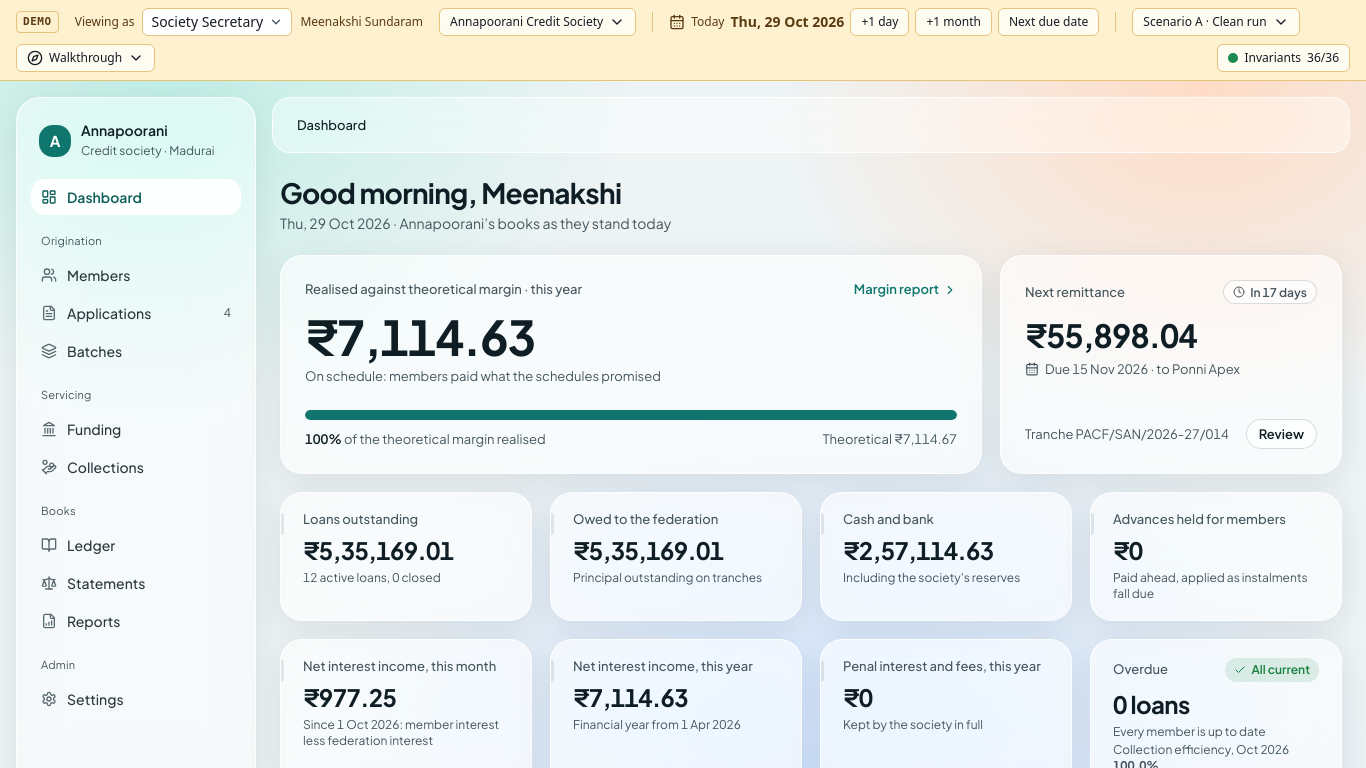
Test case: the app shell › advances the clock, and the dashboard follows
Expected: the text "Every member is up to date" is shown, [1113, 724, 1266, 738]
Expected: the text "Thu, 29 Oct 2026" is shown, [730, 12, 844, 32]
The next instalment date anywhere is Grama Valarchi's, on the 10th.
Click the button "Next due date" at (1049, 22), box [998, 8, 1099, 36]
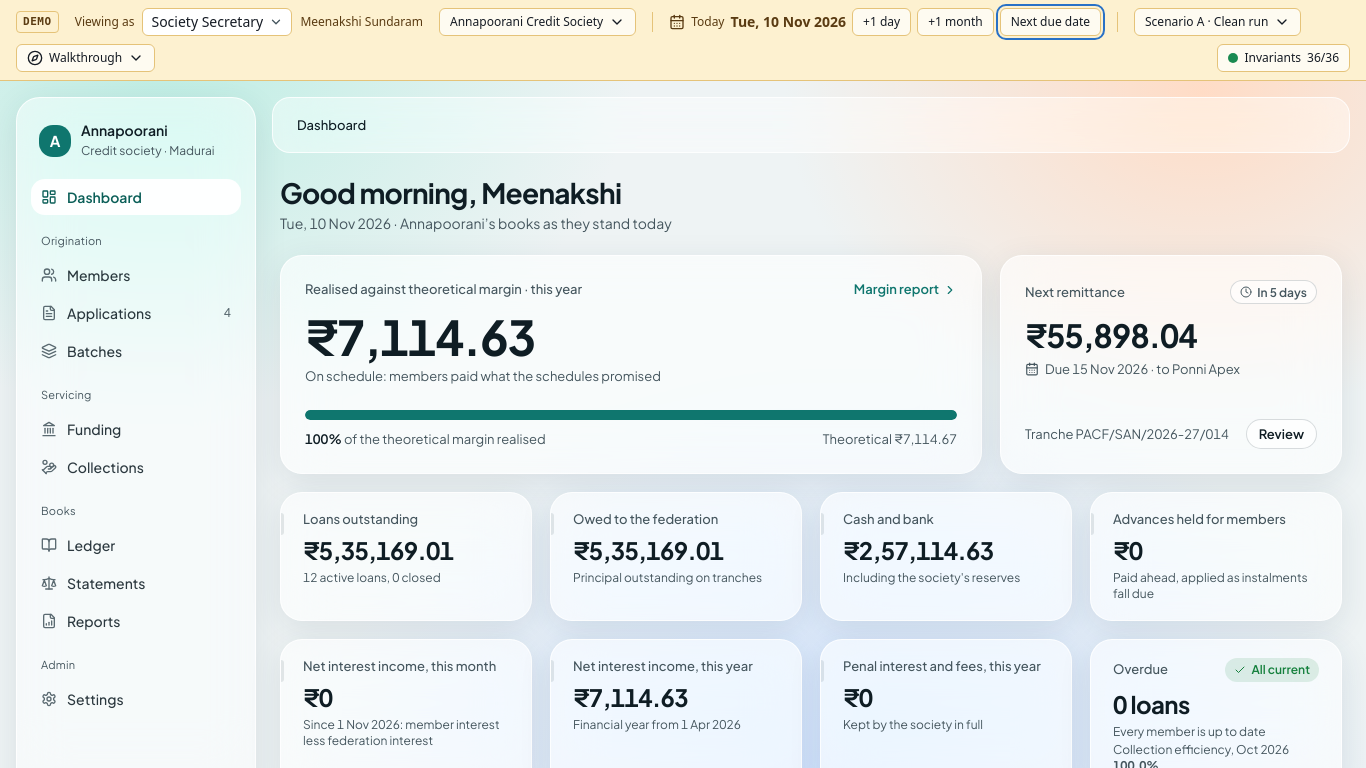
Click the button "+1 month" at (955, 22), box [917, 8, 994, 36]
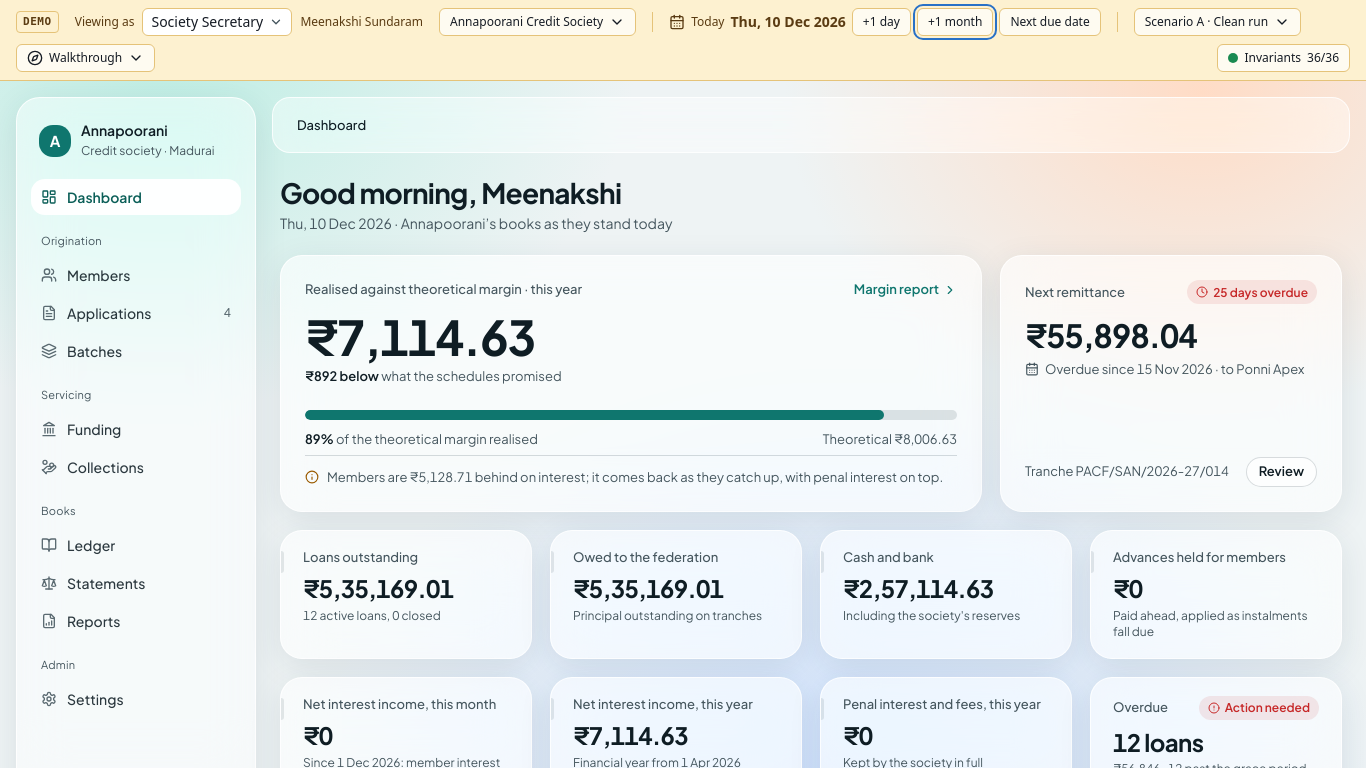
Now the text "Thu, 10 Dec 2026" is shown, box [730, 12, 846, 32]
Now the text "12 loans" is shown, box [1113, 727, 1204, 757]
Now the text "Overdue since 15 Nov 2026 · to Ponni Apex" is shown, box [1025, 360, 1317, 378]
